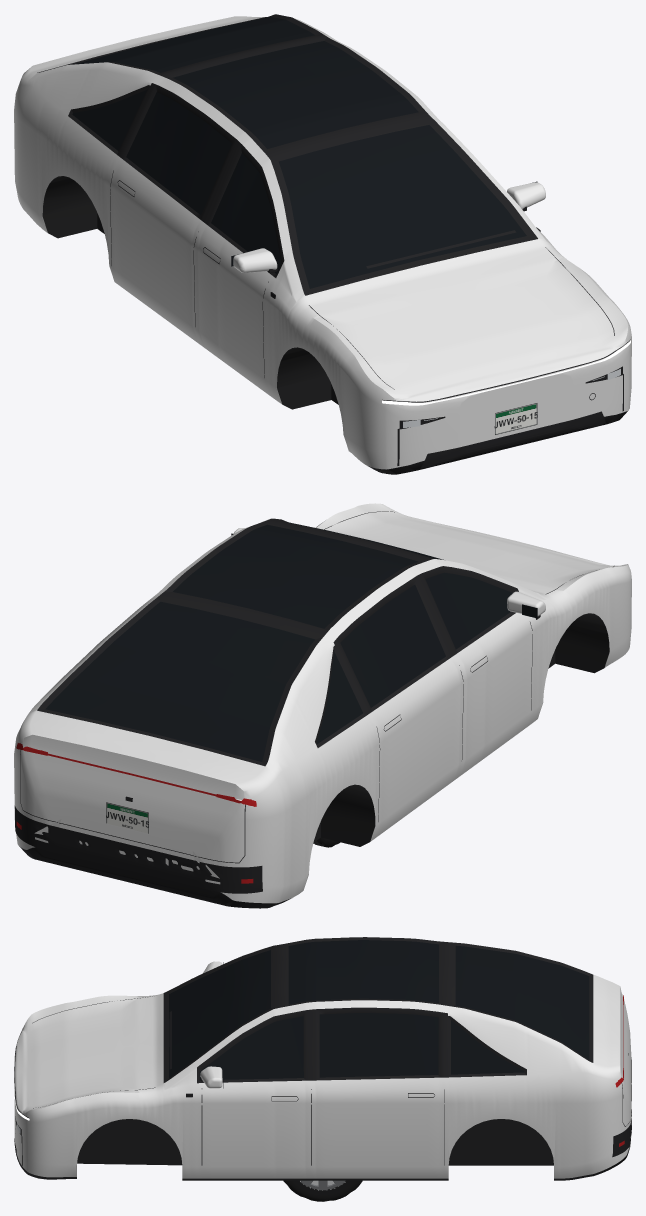
The model's file is tesla-model-y.glb.
3 views of the same model, one above another, from view 1: azimuth 30°, elevation 25°; view 2: azimuth 150°, elevation 25°; view 3: azimuth 270°, elevation 25° (orthographic). The views are drawn at different scales.
Parts seen in each view (by area): view 1: body; view 2: body; view 3: body, wheel.
Part boxes in pixels (x1,y1,x2,y2): body: (14, 14, 631, 474); body: (14, 503, 631, 908); body: (14, 937, 631, 1180); wheel: (283, 1180, 362, 1201).
Bounding box in the file's own units: 2.18 × 1.97 × 4.8.
1 material, 1 textured.
